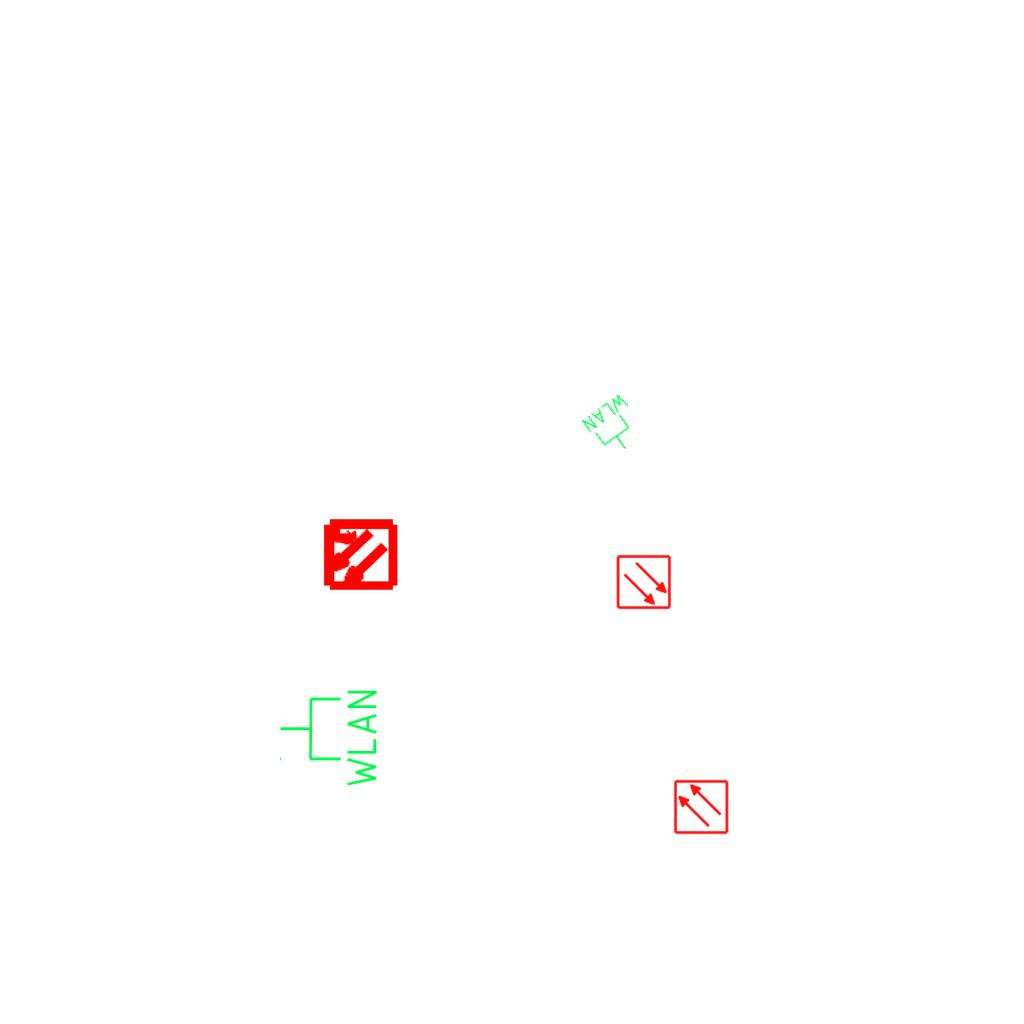OT_Multisensormelder_(Kombination_RMO_WMD): (302, 498, 415, 611)
RMO_Rauchmelder_optischer: (673, 779, 729, 835), (616, 554, 672, 610)
WLAN: (277, 686, 381, 791), (578, 389, 652, 463)
